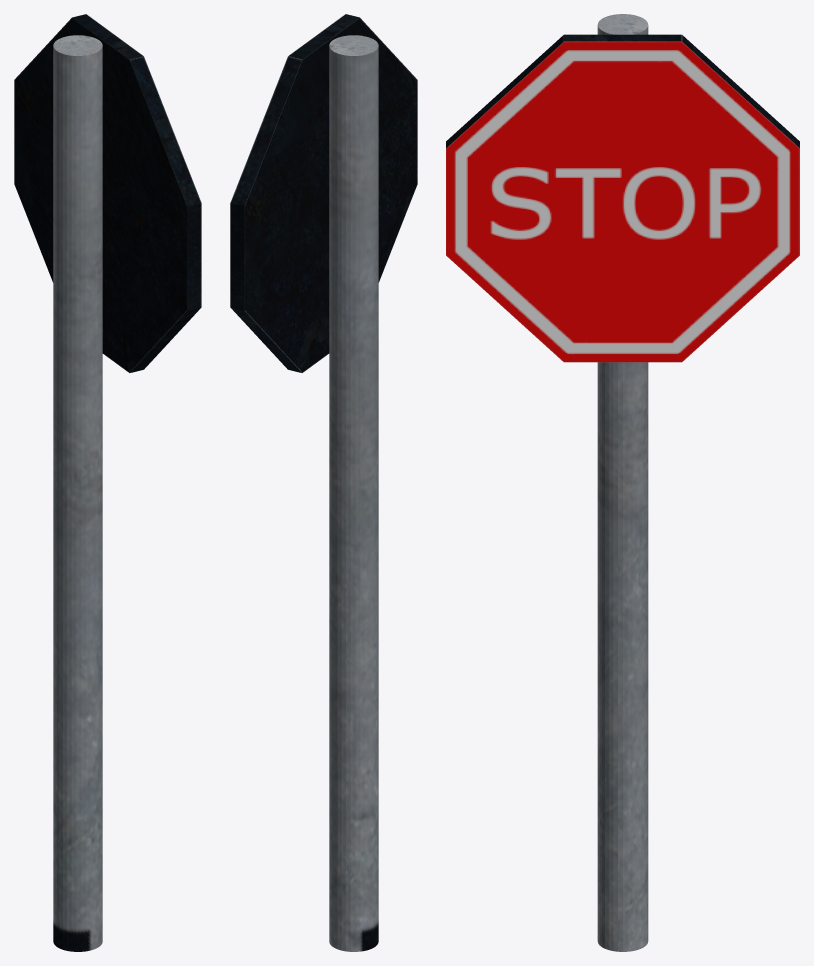
The model's file is Stop Sign.obj.
The picture shows the model from 3 angles, left to right: view 1: azimuth 30°, elevation 25°; view 2: azimuth 150°, elevation 25°; view 3: azimuth 270°, elevation 25°; orthographic projection. The views are drawn at different scales.
Visible parts, largest first — view 1: Stop_Sign_Cylinder; view 2: Stop_Sign_Cylinder; view 3: Stop_Sign_Cylinder.
Boxes of the visible parts, box(x1,y1,x2,y2) form: Stop_Sign_Cylinder: box(14, 14, 201, 951); Stop_Sign_Cylinder: box(230, 14, 417, 951); Stop_Sign_Cylinder: box(446, 14, 799, 951).
Size of the model in its own units: 0.205 by 3 by 1.05.
1 material, 1 textured.
